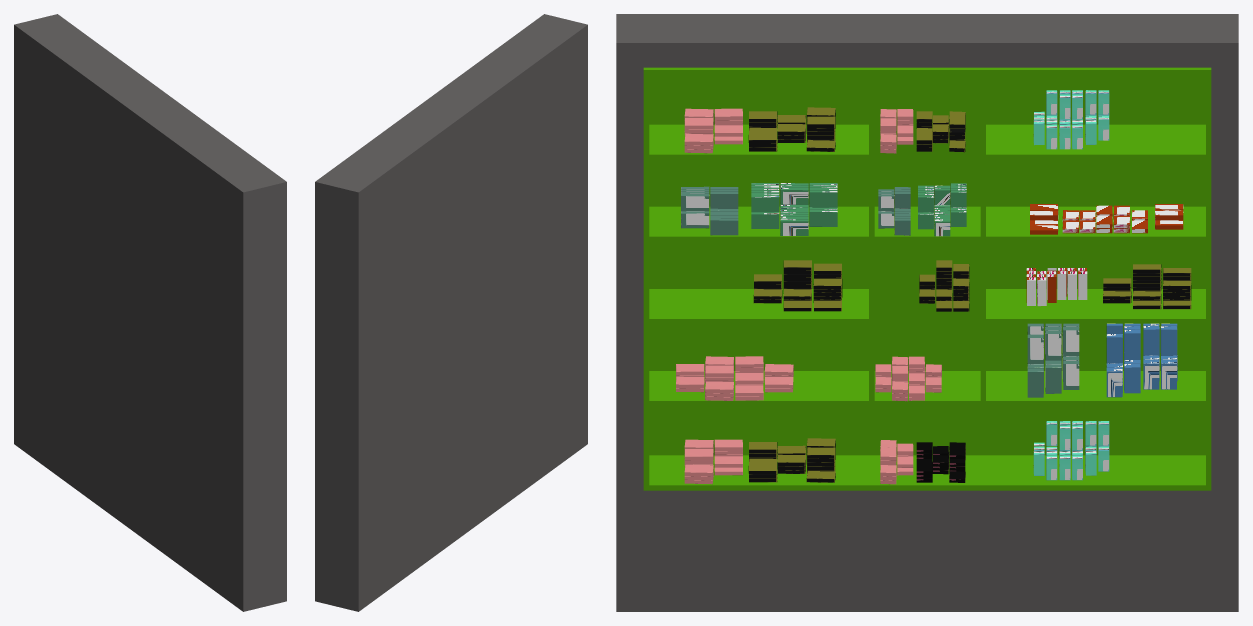
Rendered from PHARMACY 2.fbx.
3 renders of one model, left to right at view 1: azimuth 30°, elevation 25°; view 2: azimuth 150°, elevation 25°; view 3: azimuth 270°, elevation 25°, orthographic. The views are drawn at different scales.
Visible parts, largest first — view 1: object_0.001; view 2: object_0.001; view 3: object_1.001, object_0.001, object_9.001, object_11.001, object_8.001, object_2.001, object_5.001, object_3, object_7, object_6, object_4.001, object_10.001.
Boxes of the visible parts, x1=… form: object_0.001: x1=14, y1=14, x2=286, y2=611; object_0.001: x1=315, y1=14, x2=587, y2=611; object_1.001: x1=643, y1=67, x2=1211, y2=490; object_0.001: x1=616, y1=14, x2=1238, y2=611; object_9.001: x1=748, y1=107, x2=1191, y2=482; object_11.001: x1=676, y1=108, x2=941, y2=484; object_8.001: x1=1033, y1=90, x2=1109, y2=480; object_2.001: x1=751, y1=183, x2=966, y2=236; object_5.001: x1=1106, y1=323, x2=1177, y2=397; object_3: x1=681, y1=186, x2=910, y2=235; object_7: x1=1030, y1=204, x2=1183, y2=234; object_6: x1=1027, y1=323, x2=1079, y2=397; object_4.001: x1=1026, y1=268, x2=1087, y2=306; object_10.001: x1=916, y1=442, x2=965, y2=482.
Size of the model in its own units: 0.34 by 2.86 by 2.83.
12 materials, 10 textured.
